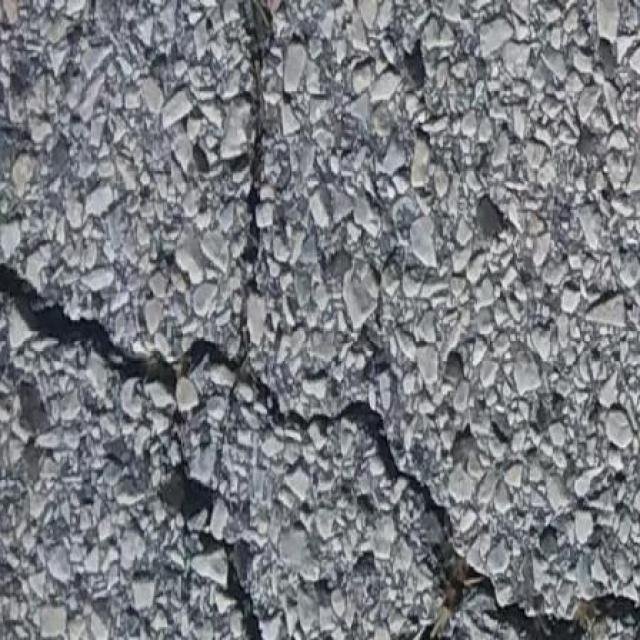Crack: (2, 266, 640, 640), (238, 0, 272, 353)
